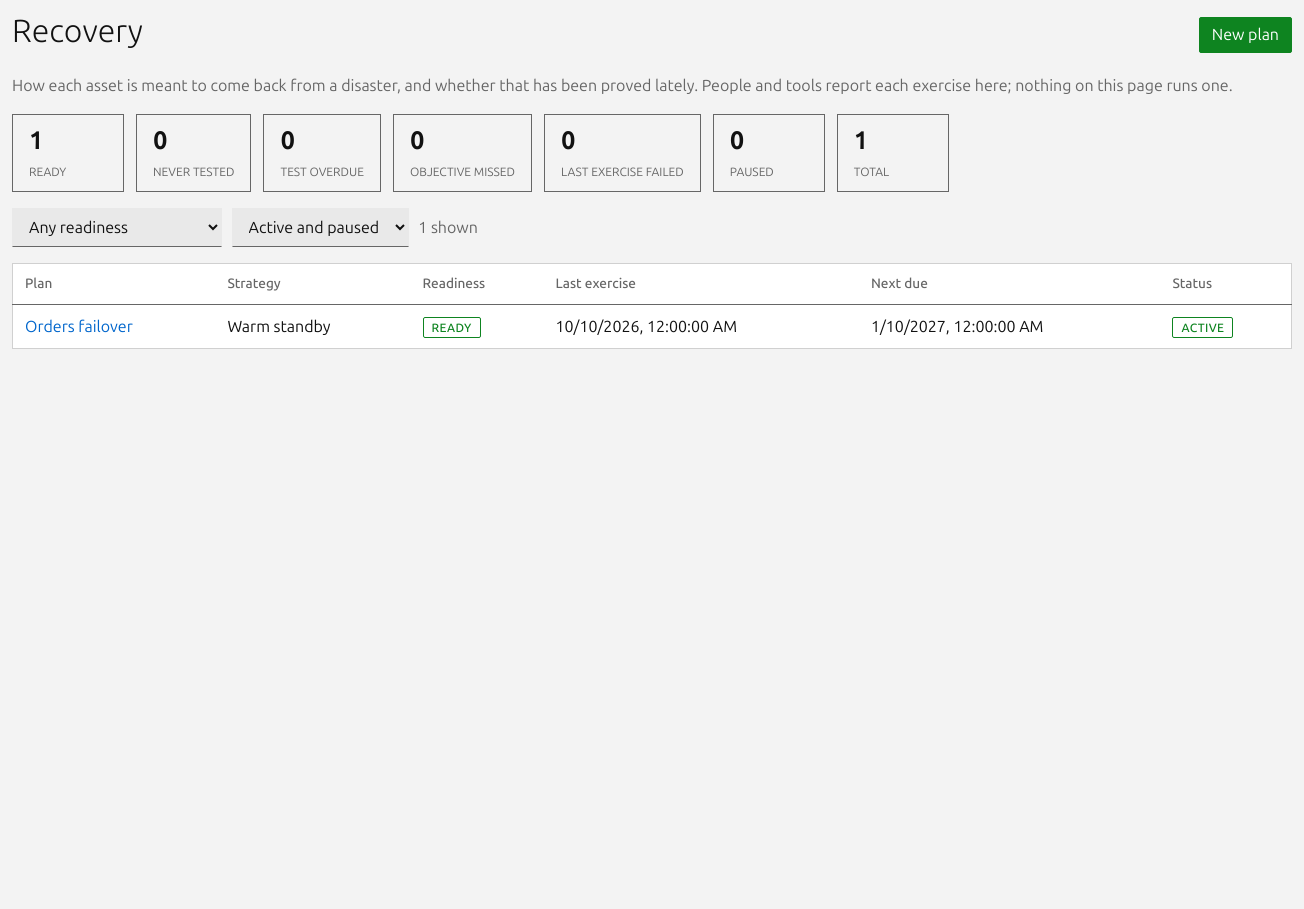
Test case: a new plan › shows a failure that is not a problem document as plain text
Expected: the button "Orders failover" is shown, [25,315,133,339]
Click the button "New plan".
click(1245, 35)  # box [1199,17,1292,53]
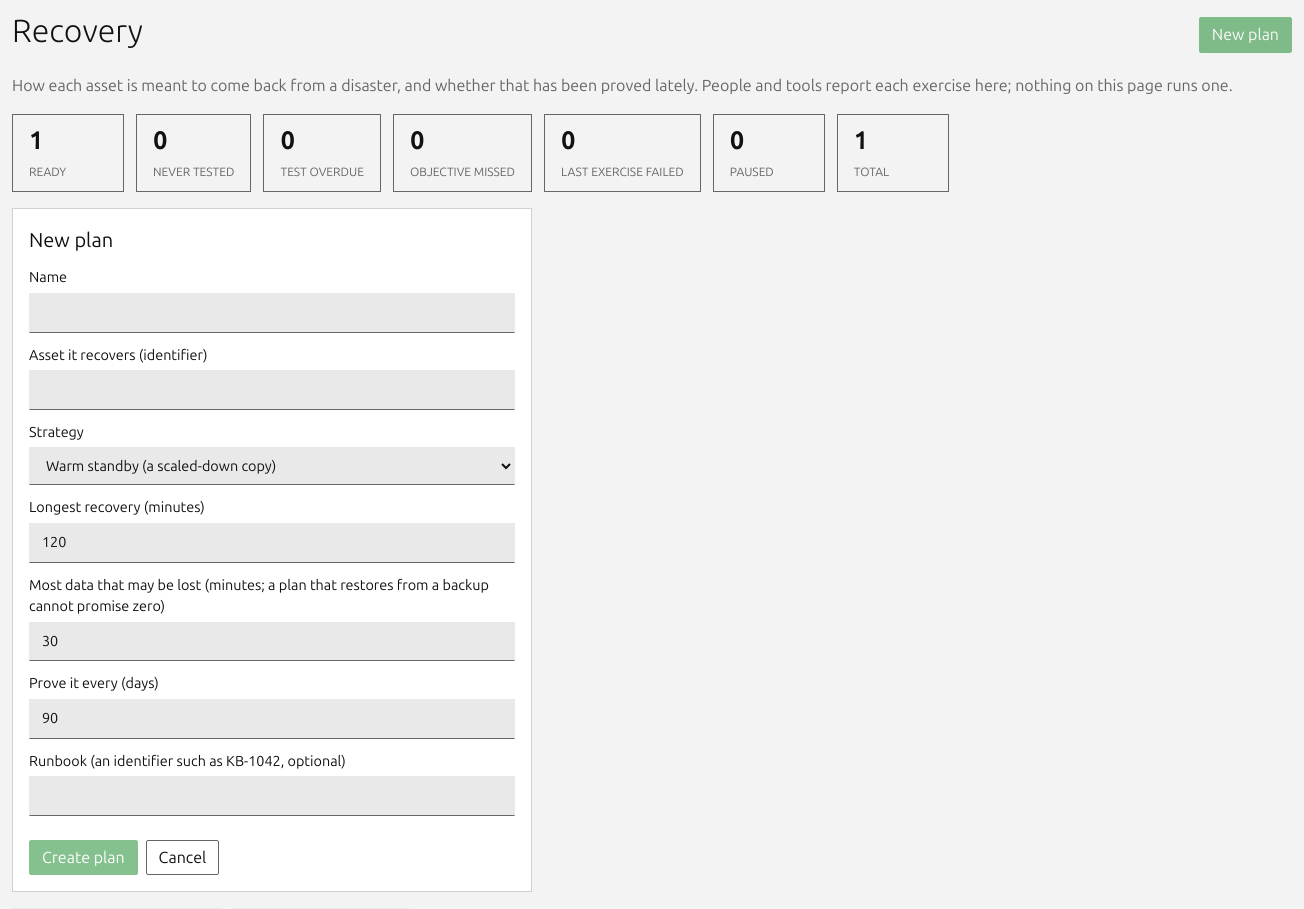
Type "X" into the field labelled "Name".
click(272, 313); type("X")  # box [29,293,515,333]
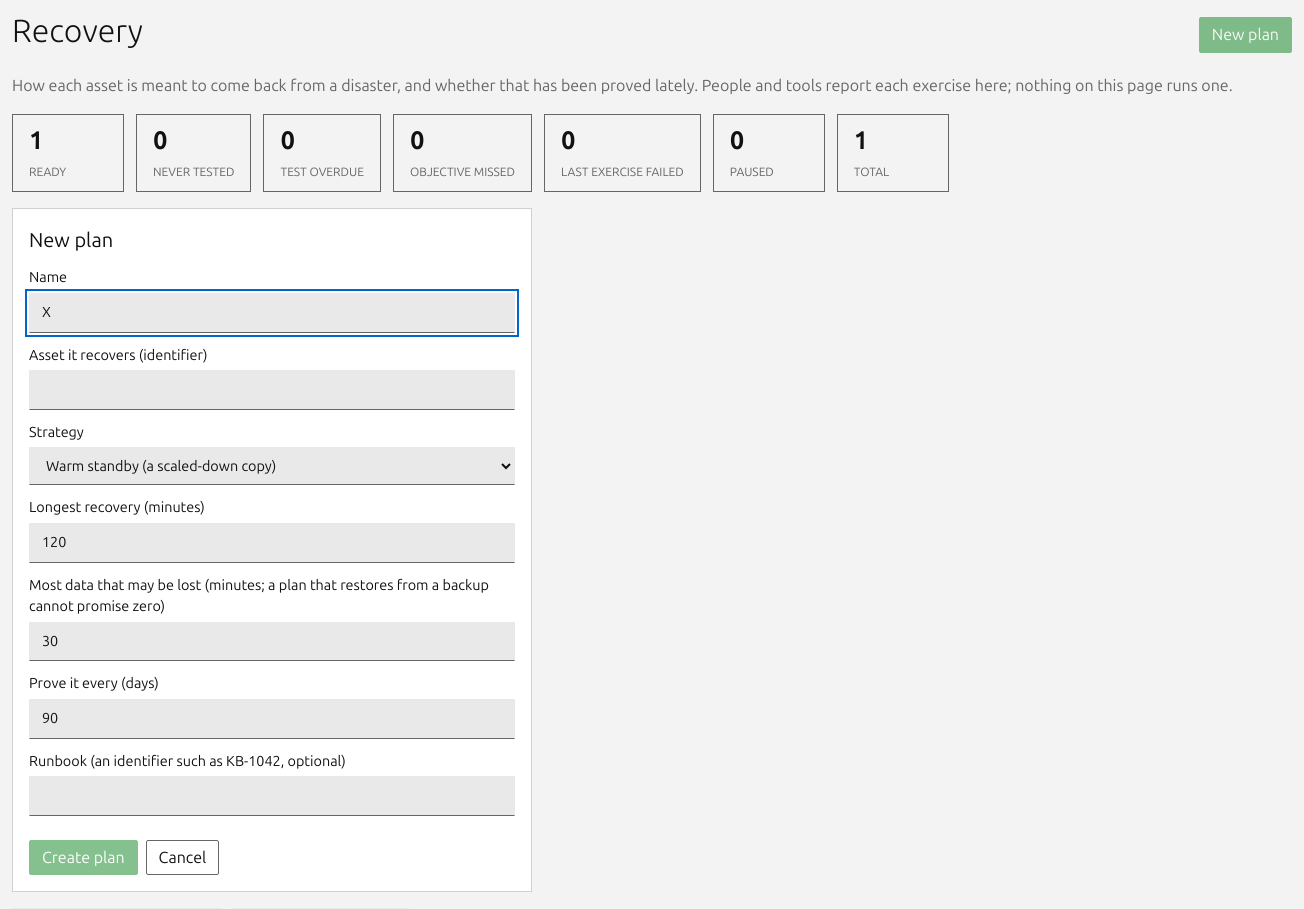
Type "a4" into the field labelled "Asset it recovers (identifier)".
click(272, 390); type("a4")  # box [29,370,515,410]
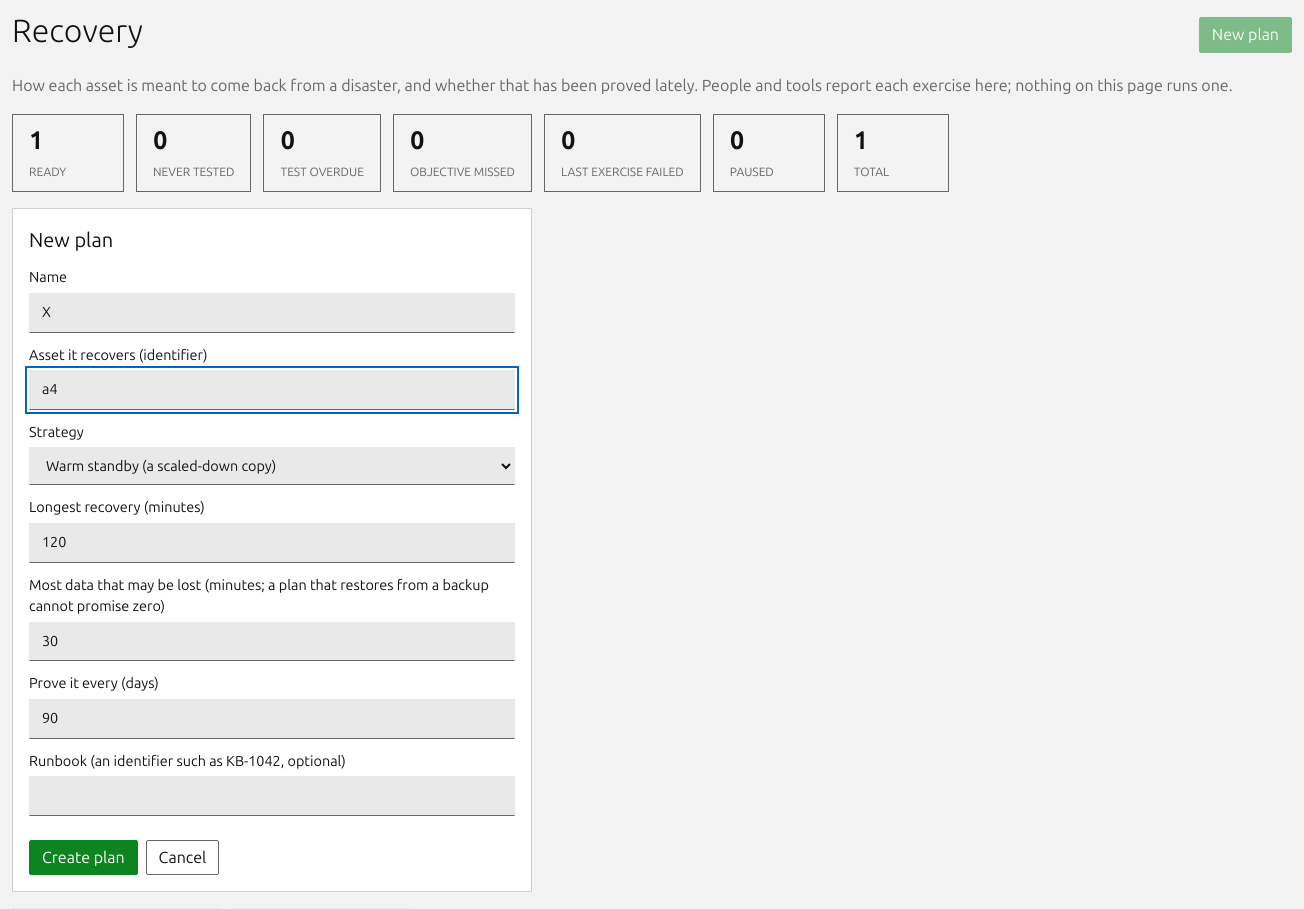
Click the button "Create plan".
click(83, 858)  # box [29,840,138,875]
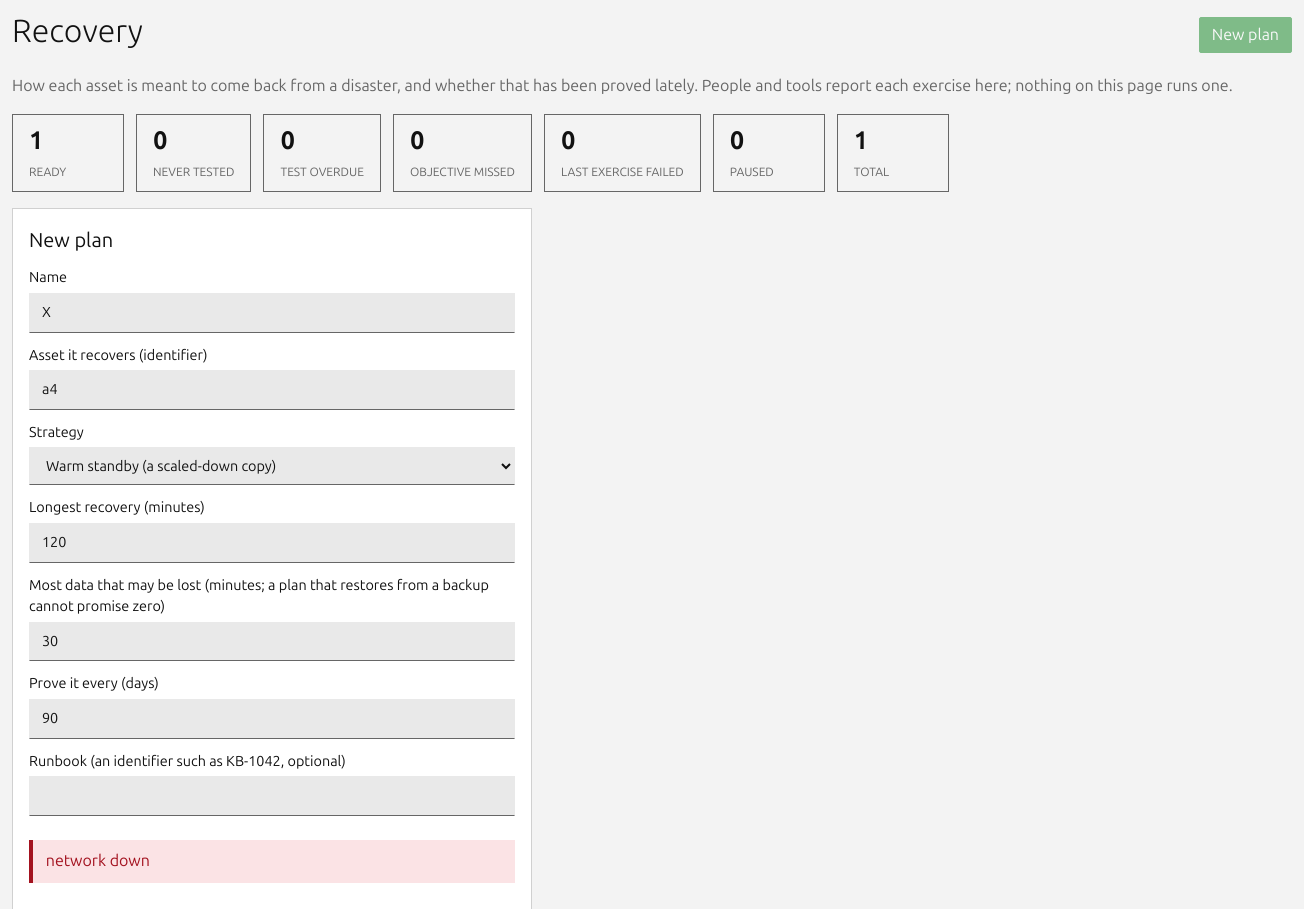
Expected: the text "network down" is shown, [29,840,515,883]
